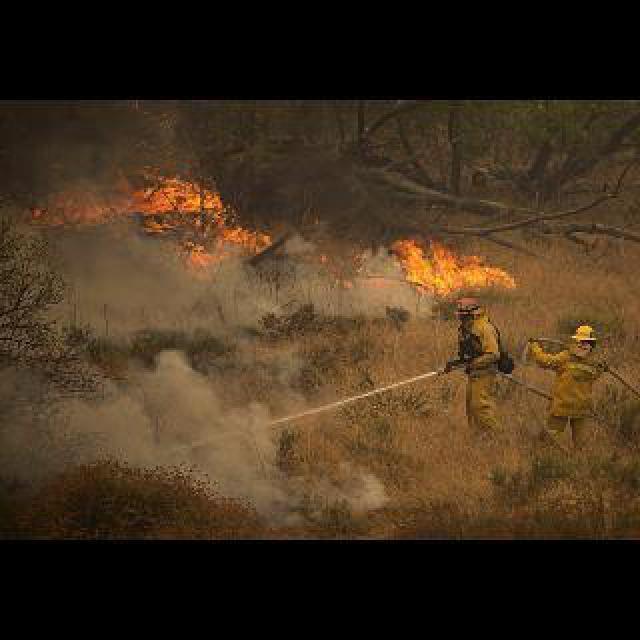Fire: (42, 166, 272, 270), (314, 230, 516, 294)
